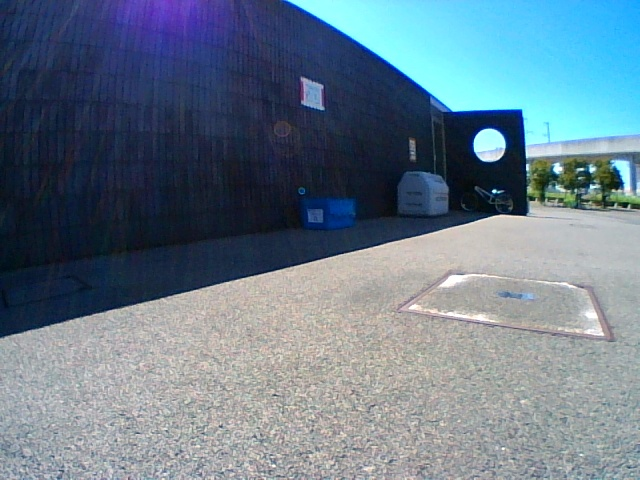blue_box: (303, 199, 355, 229)
tag: (307, 210, 321, 222)
